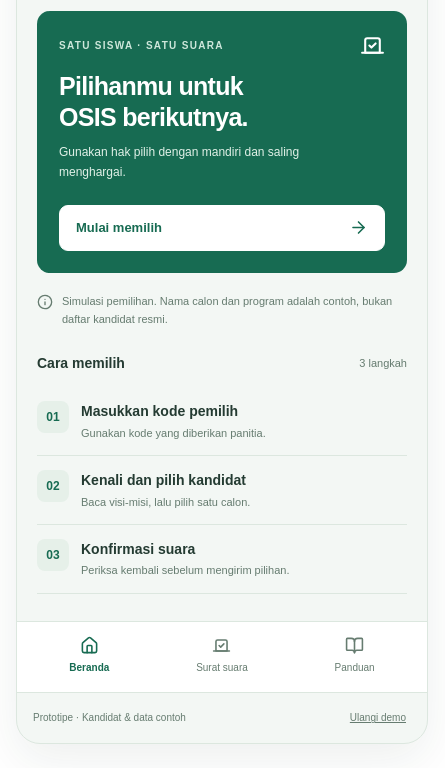
navigasi dasar › menampilkan beranda dan panduan
(page scrolled)
Click the button "Panduan" at (355, 655), box [317, 632, 392, 679]
(page scrolled)
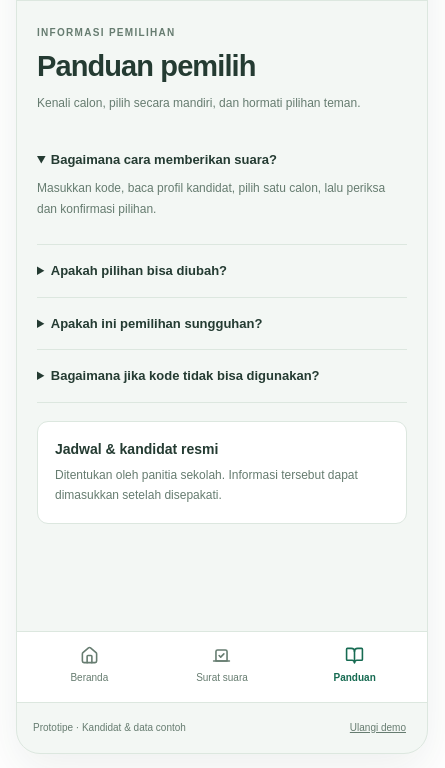
Check: the heading "Panduan pemilih" is shown, box [37, 50, 256, 82]
Click the button "Beranda" at (89, 665), box [52, 642, 127, 688]
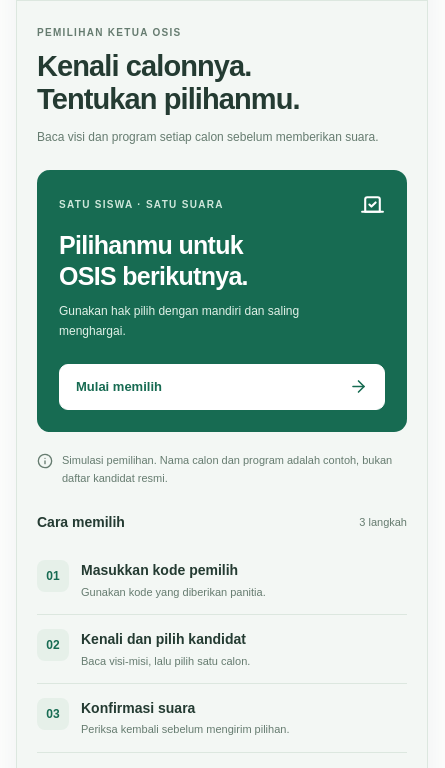
Check: the heading "Kenali calonnya.Tentukan pilihanmu." is shown, box [37, 50, 300, 115]
